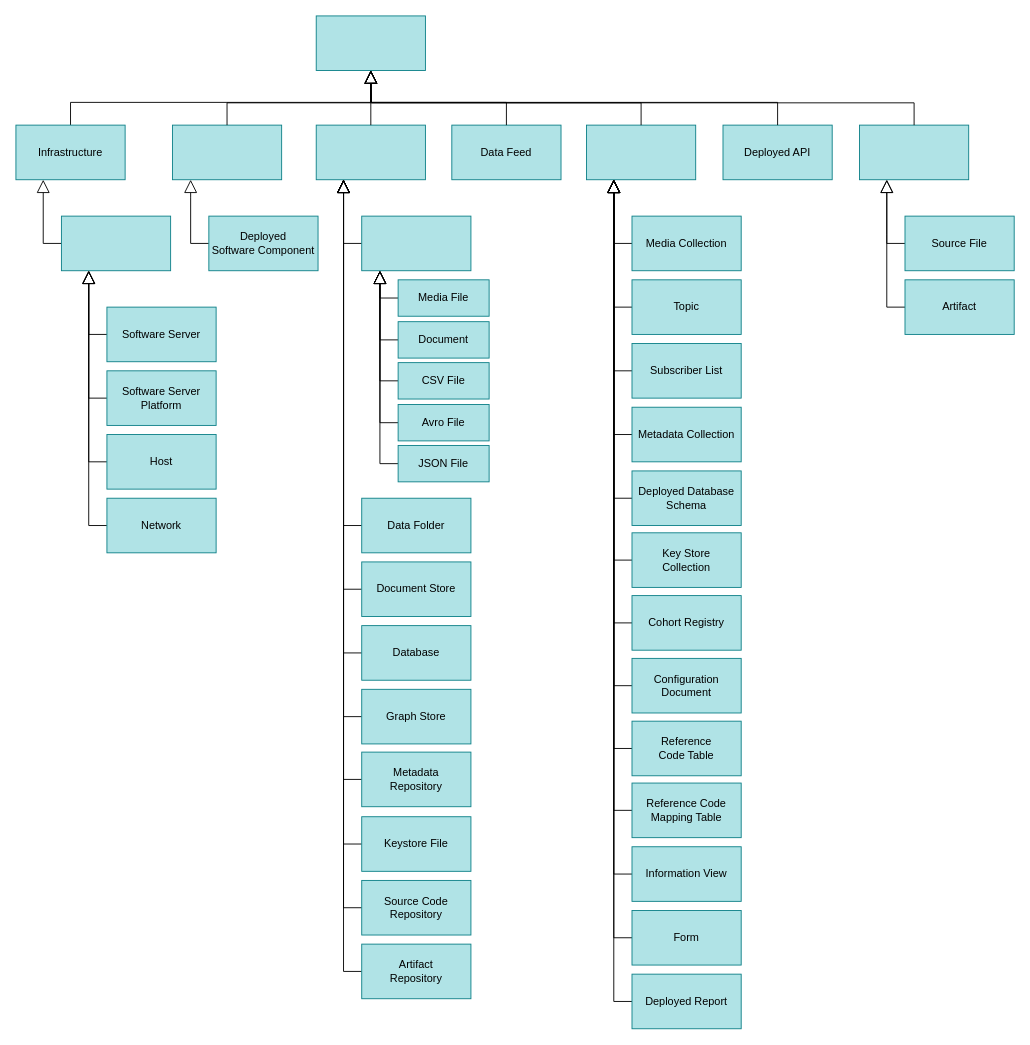
This 1030x1045 diagram has some shape labels left out. Each missing label, with the centre of its shape:
"Asset" goes at [370,43].
"Data File" goes at [416,243].
"Data Set" goes at [641,152].
"Data Store" goes at [370,152].
"IT Infrastructure" goes at [116,243].
"Process" goes at [227,152].
"Software" goes at [914,152].
